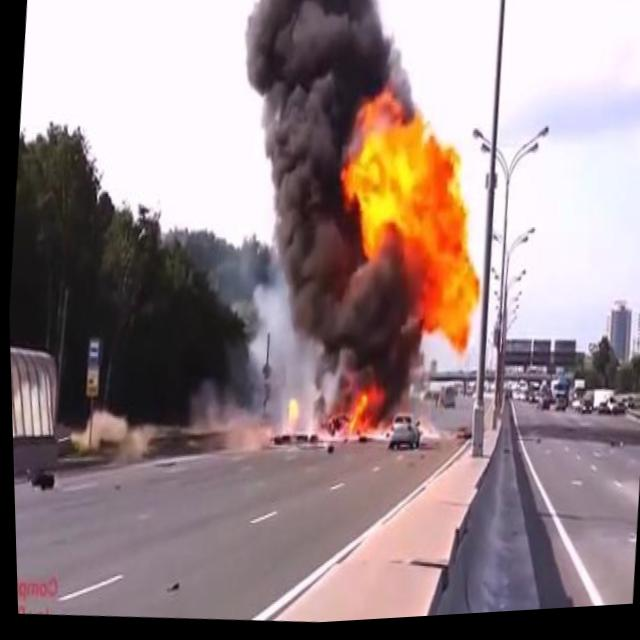fire: (319, 89, 496, 370), (317, 378, 385, 455), (281, 397, 299, 438)
